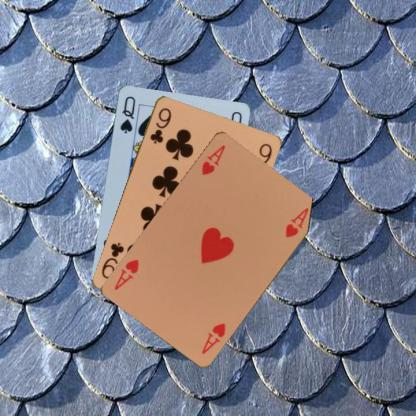9c: (147, 105, 173, 145)
Ah: (199, 320, 227, 355), (199, 142, 227, 176)
Qs: (117, 93, 136, 134)
